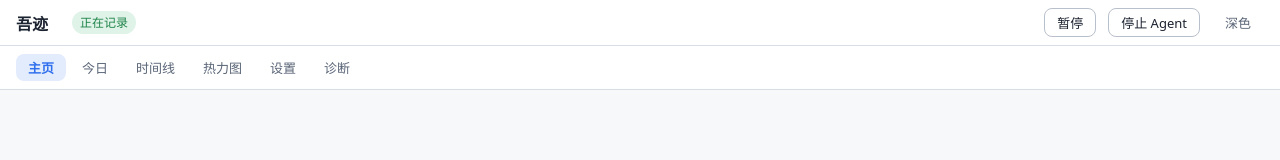
Test: AppLayout 顶栏 › 停止 Agent 后切换到未运行状态
Click the button "停止 Agent": point(1154, 22) [1108,8,1200,37]
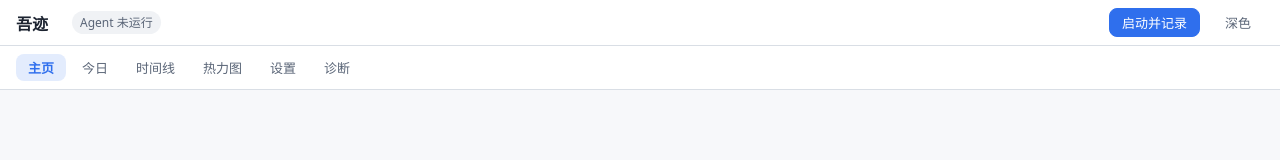
Expected: the text with test id "capture-state-badge" reads "Agent 未运行", [80,14,153,31]
